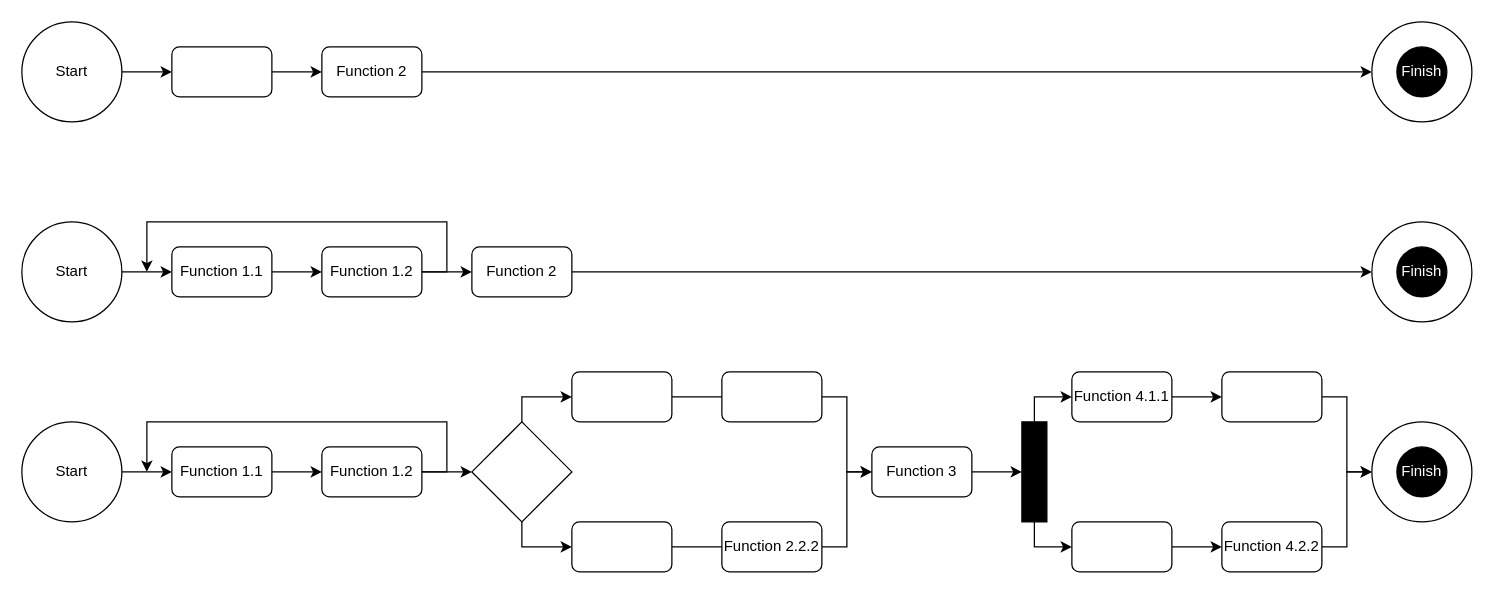
The diagram is 1494 pixels wide and 594 high, and some of its shapes have lost their labels. The shapes that lost their labels are listed below. From the top down, each one's centre as x and y in pixels, then its label:
At (x=221, y=71): "Function 1".
At (x=621, y=396): "Function 2.1.1".
At (x=771, y=396): "Function 2.1.2".
At (x=1271, y=396): "Function 4.1.2".
At (x=621, y=546): "Function 2.2.1".
At (x=1121, y=546): "Function 4.2.1".
